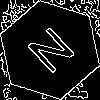N: (25, 25, 84, 83)
